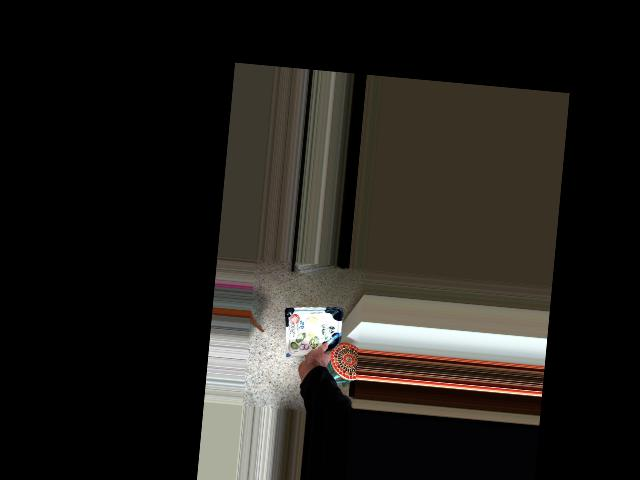cheese: (279, 314, 342, 379)
